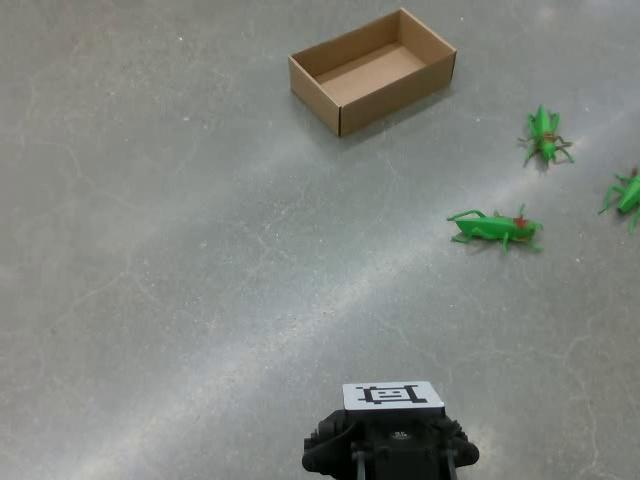box: (286, 6, 457, 137)
grasshopper: (445, 202, 544, 255), (516, 103, 575, 172), (598, 165, 640, 232)
